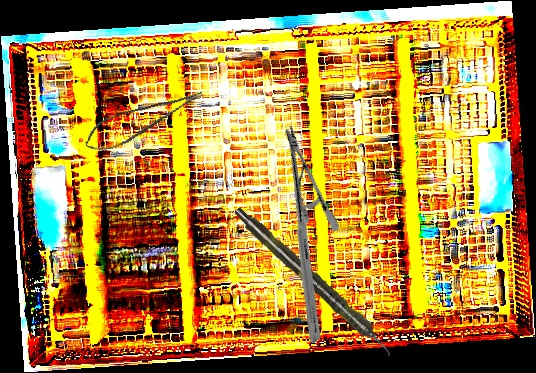Handpiece: (230, 203, 398, 361)
Micro Scissor: (79, 87, 211, 157)
Needle Holder: (200, 124, 405, 345)
